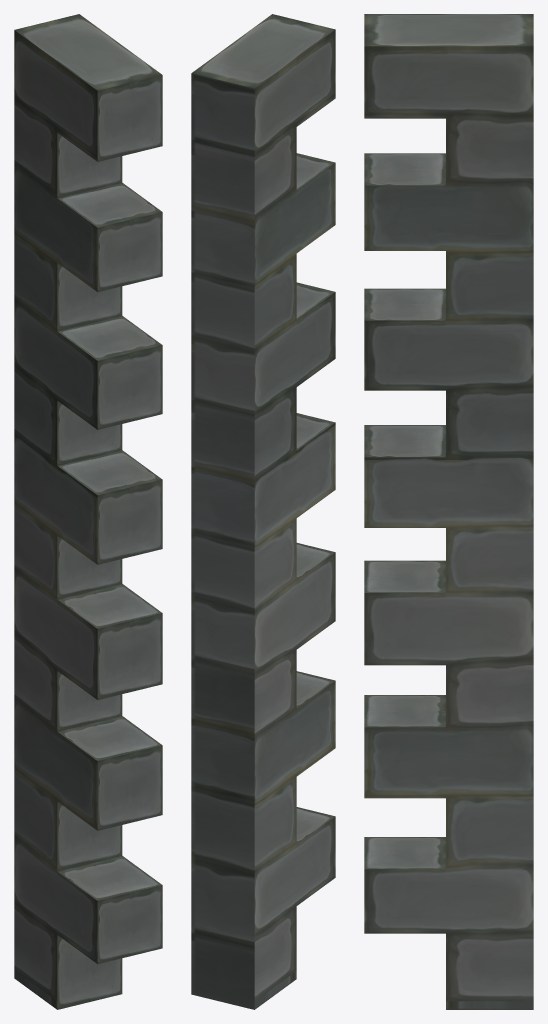
The model's file is wallFullEnd.FBX.
The picture shows the model from 3 angles, left to right: view 1: azimuth 30°, elevation 25°; view 2: azimuth 150°, elevation 25°; view 3: azimuth 270°, elevation 25°; orthographic projection. The views are drawn at different scales.
Parts seen in each view (by area): view 1: wall_FullBricks; view 2: wall_FullBricks; view 3: wall_FullBricks.
Part boxes in pixels (x1=…): wall_FullBricks: x1=14, y1=14, x2=162, y2=1009; wall_FullBricks: x1=191, y1=14, x2=335, y2=1009; wall_FullBricks: x1=364, y1=14, x2=533, y2=1009.
Bounding box in the file's own units: 13.23 × 184 × 29.34.
1 material, 1 textured.
